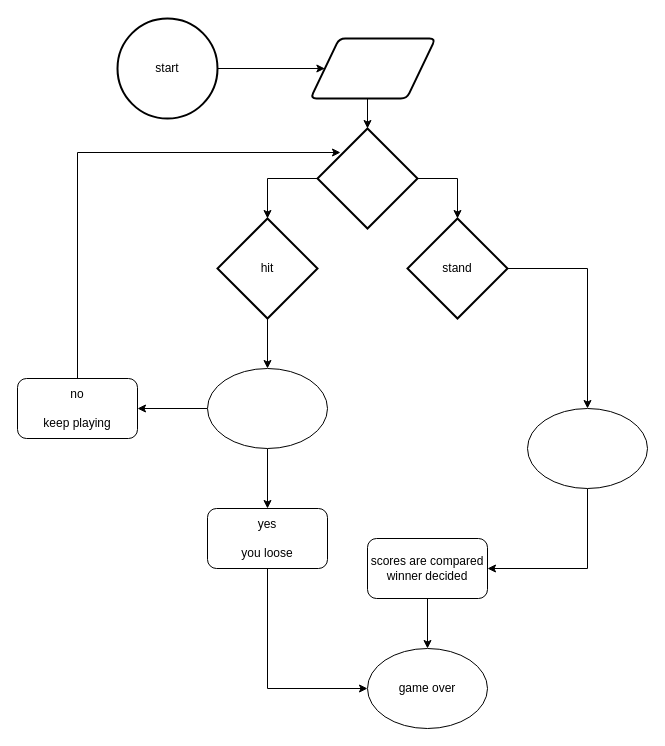
Some shapes in this 665 by 746 pixel diagram are drawn without their labels. Here are the shapes that lost their labels. From the top down, the centre of each, then its label:
(372,68): player gets hand
(367,178): player decision
(267,408): player score is over 21?
(587,448): dealers turn draws cards until >= 17
